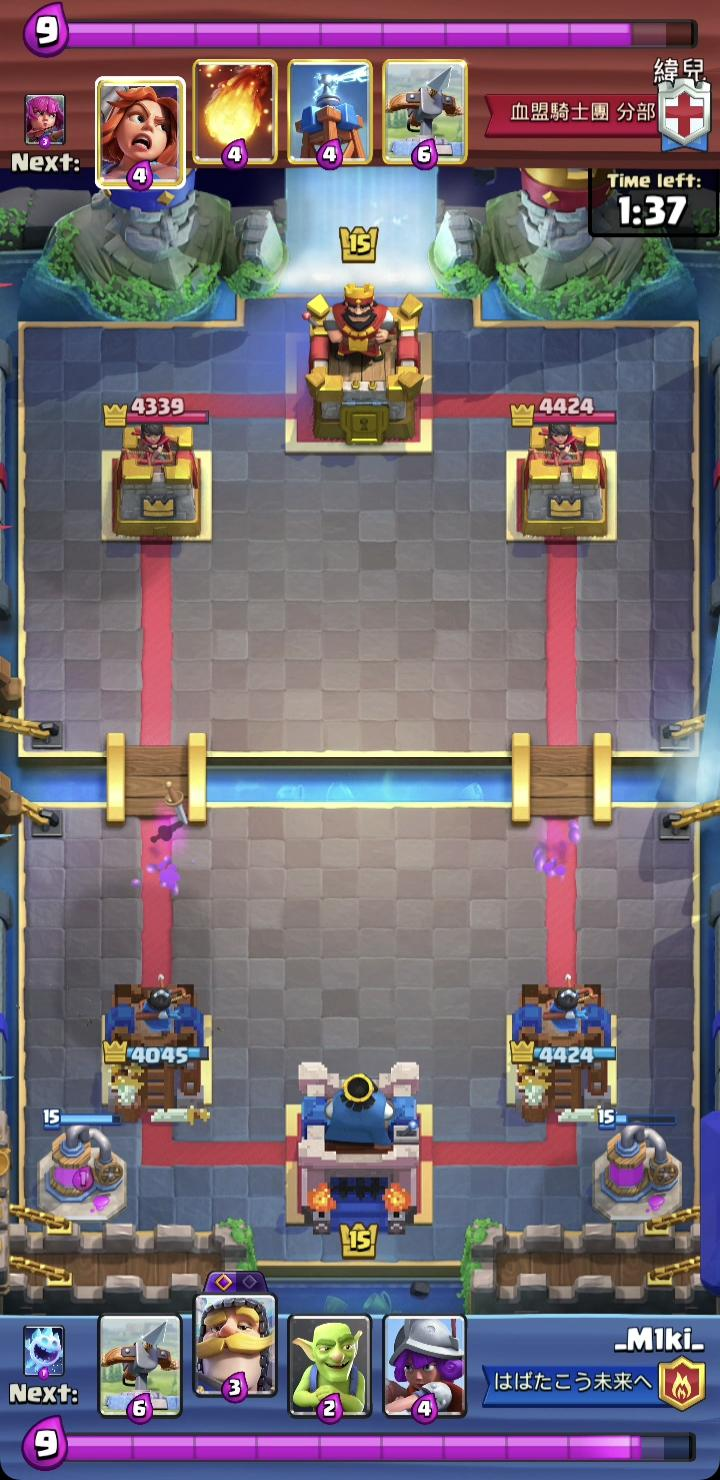ally_elixirpump: (35, 1108, 129, 1226), (592, 1109, 684, 1226)
